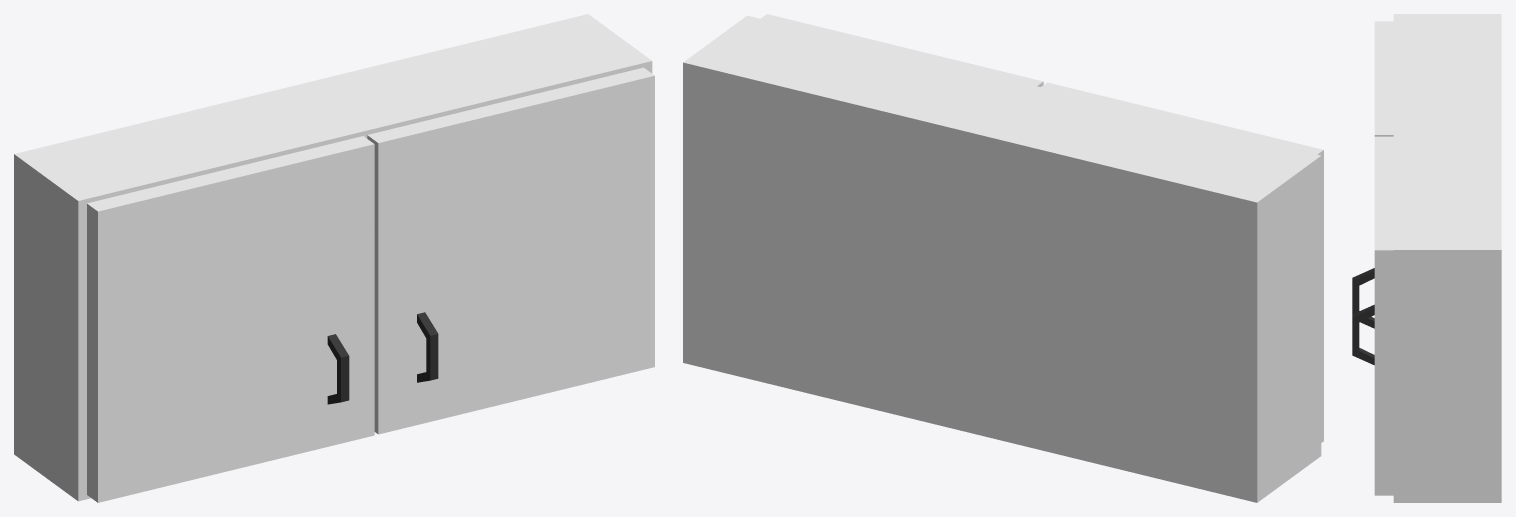
Rendered from Cupboard_1_1.fbx.
3 renders of one model, left to right at view 1: azimuth 30°, elevation 25°; view 2: azimuth 150°, elevation 25°; view 3: azimuth 270°, elevation 25°, orthographic. The views are drawn at different scales.
Parts seen in each view (by area): view 1: polySurface1492; view 2: polySurface1492; view 3: polySurface1492.
Part boxes in pixels (left/top/right/bottom): polySurface1492: left=14, top=14, right=654, bottom=502; polySurface1492: left=683, top=14, right=1323, bottom=502; polySurface1492: left=1352, top=14, right=1501, bottom=502.
Size of the model in its own units: 1.8 by 0.9 by 0.4813.
Materials: 1 (1 with a texture image).
